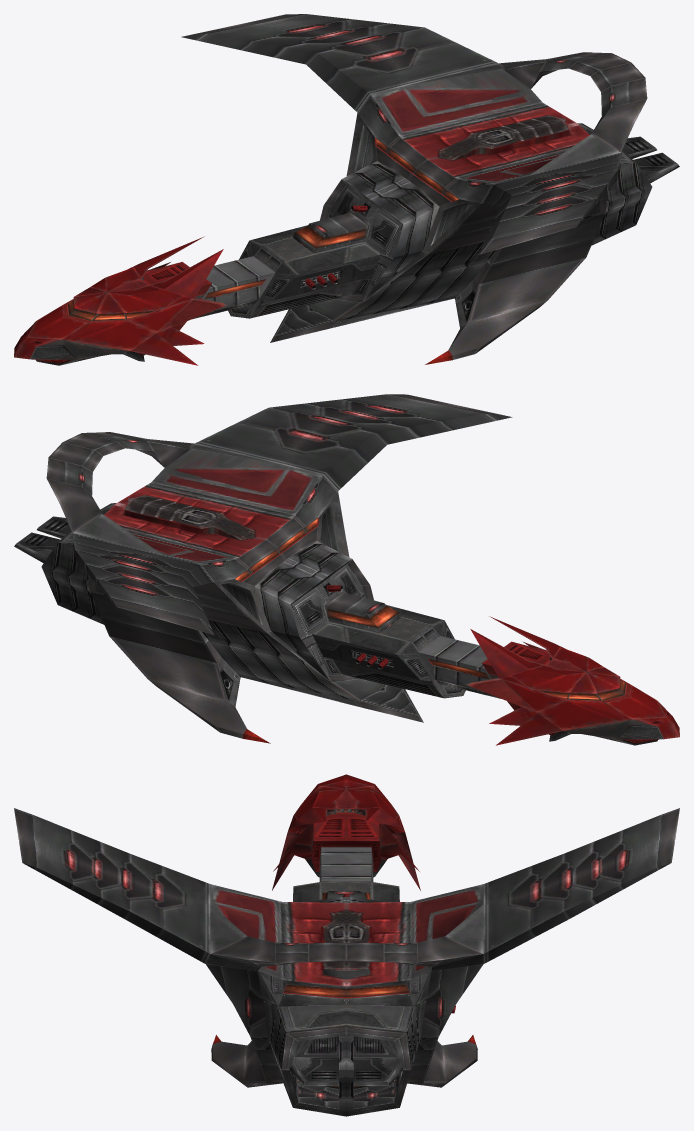
The model's file is rvc03.obj.
The picture shows the model from 3 angles, top to bottom: view 1: azimuth 30°, elevation 25°; view 2: azimuth 150°, elevation 25°; view 3: azimuth 270°, elevation 25°; orthographic projection. The views are drawn at different scales.
Visible parts, largest first — view 1: BODY0.006, 2PASS0.001; view 2: BODY0.006, 2PASS0.001; view 3: BODY0.006.
Boxes of the visible parts, box(x1,y1,x2,y2) form: BODY0.006: box(14, 14, 679, 365); 2PASS0.001: box(68, 138, 458, 364); BODY0.006: box(14, 394, 679, 745); 2PASS0.001: box(235, 518, 625, 743); BODY0.006: box(14, 774, 679, 1116).
Bounding box in the file's own units: 110 × 31.84 × 88.09.
3 materials, 3 textured.
